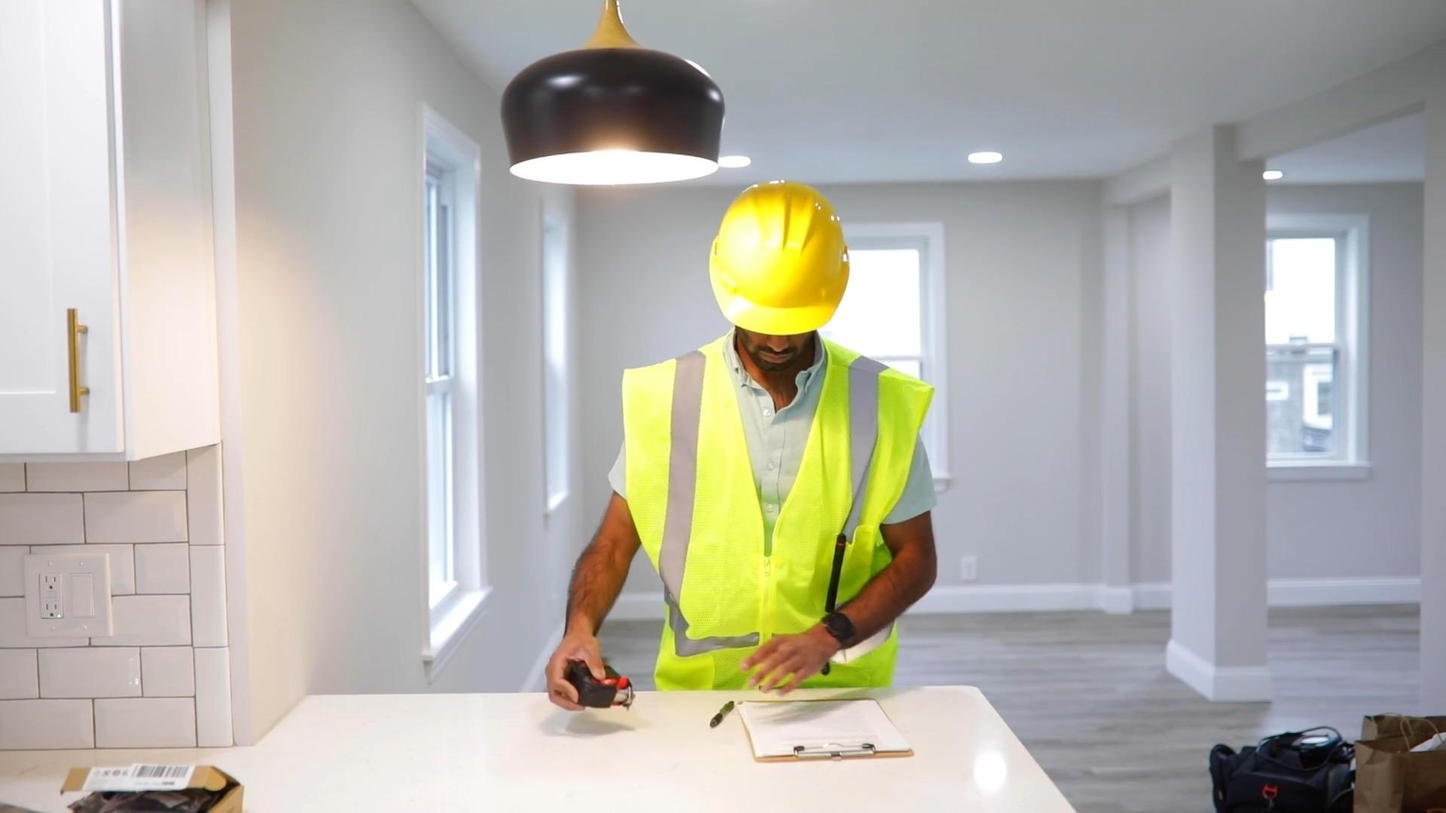Helmet: (705, 194, 854, 335)
Person: (535, 186, 968, 729)
Safety Vest: (631, 372, 901, 678)
bare-arms: (746, 634, 832, 705), (546, 661, 636, 714), (914, 707, 958, 709)
